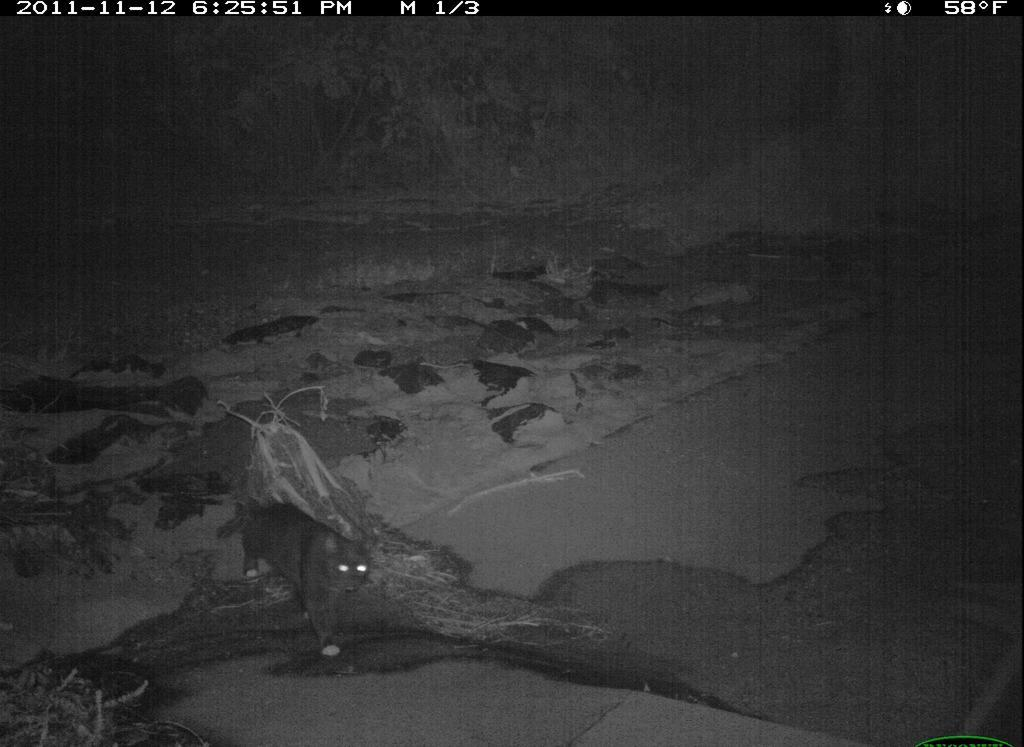cat: (223, 472, 424, 655)
